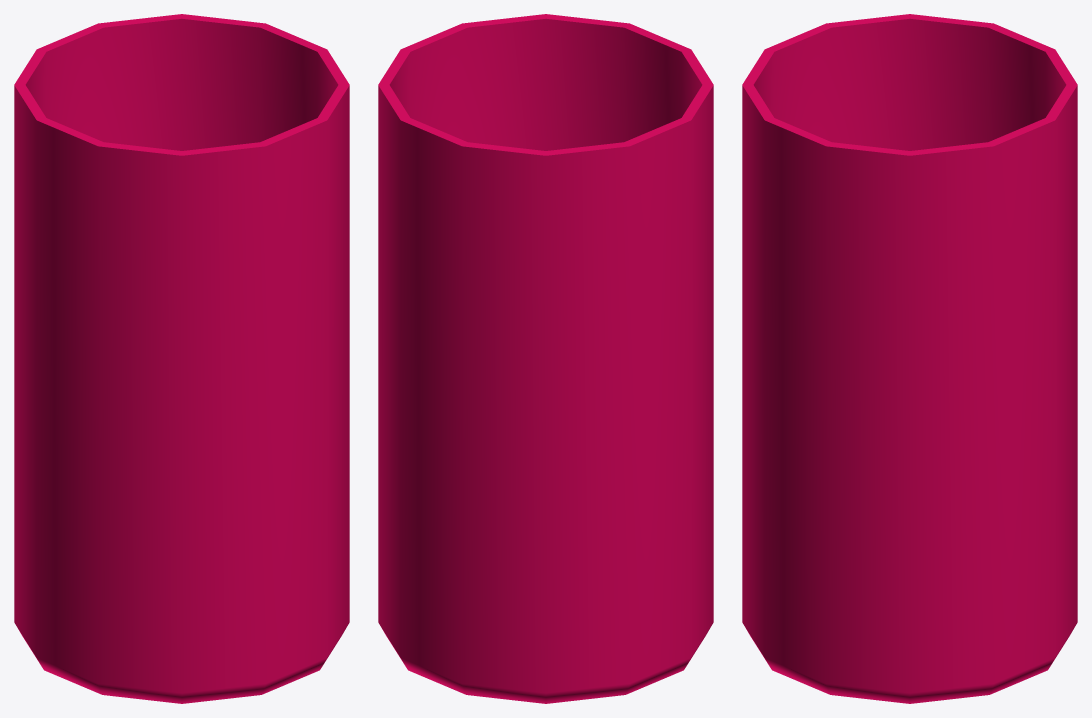
Rendered from Tumbler_04_Lod0.fbx.
3 views of the same model, side by side, from view 1: azimuth 30°, elevation 25°; view 2: azimuth 150°, elevation 25°; view 3: azimuth 270°, elevation 25° (orthographic).
Visible parts, largest first — view 1: Tumbler_04_Lod0; view 2: Tumbler_04_Lod0; view 3: Tumbler_04_Lod0.
Boxes of the visible parts, x1,y1,x2,y2 form: Tumbler_04_Lod0: [14, 14, 349, 703]; Tumbler_04_Lod0: [378, 14, 713, 703]; Tumbler_04_Lod0: [742, 14, 1077, 703].
Bounding box in the file's own units: 11.79 × 21.39 × 11.79.
